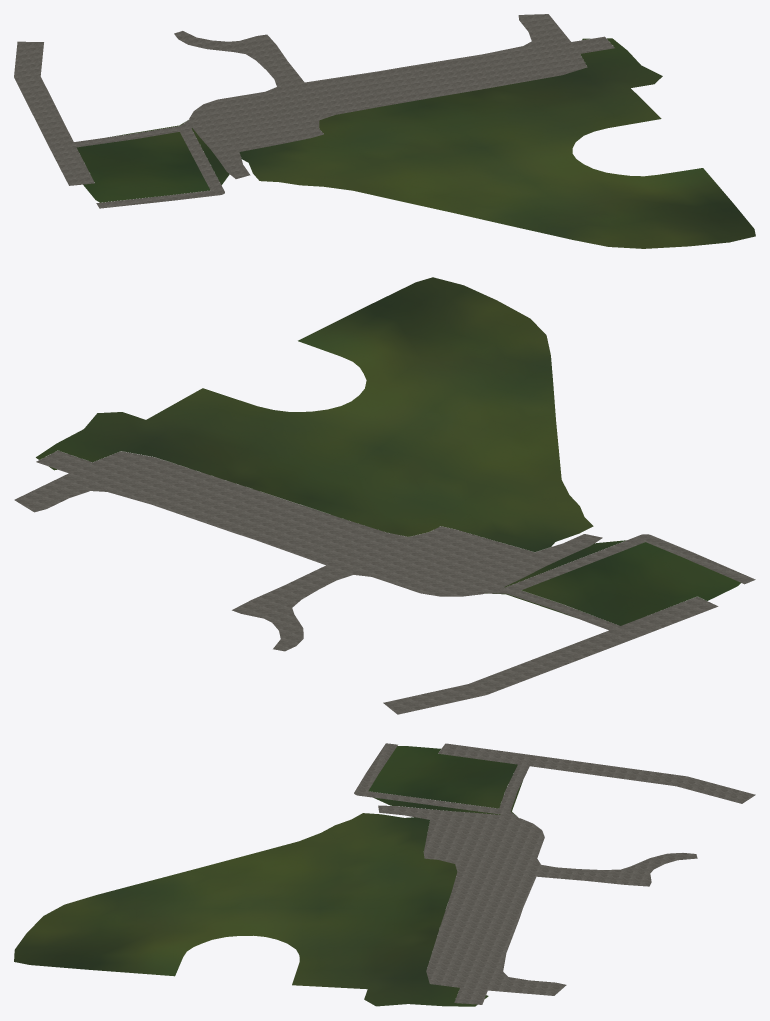
3 renders of one model, top to bottom at view 1: azimuth 30°, elevation 25°; view 2: azimuth 150°, elevation 25°; view 3: azimuth 270°, elevation 25°, orthographic. The views are drawn at different scales.
Visible parts, largest first — view 1: Empress Lawn turf, Dalhousie court granite; view 2: Empress Lawn turf, Dalhousie court granite; view 3: Empress Lawn turf, Dalhousie court granite.
Boxes of the visible parts, box(x1,y1,x2,y2) form: Empress Lawn turf: box(76, 38, 755, 248); Dalhousie court granite: box(14, 14, 614, 208); Empress Lawn turf: box(36, 277, 740, 625); Dalhousie court granite: box(14, 450, 755, 714); Empress Lawn turf: box(14, 746, 522, 1006); Dalhousie court granite: box(354, 743, 755, 1004).
Size of the model in its own units: 136 by 0.1698 by 161.
Materials: 2 (2 with a texture image).
